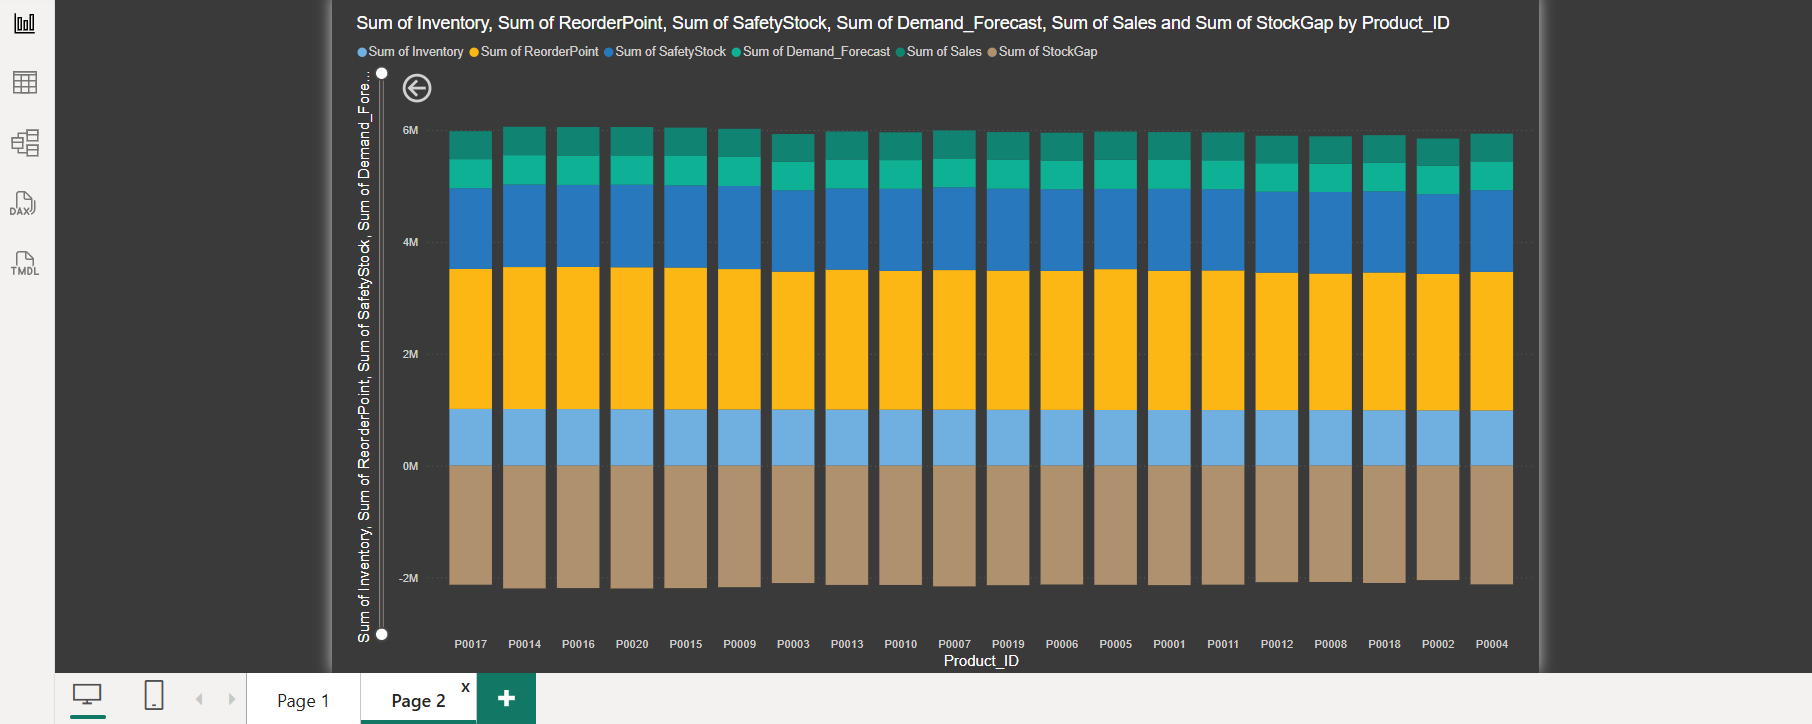

This screenshot's page, from the dashboard's own definition file:
{"tool":"powerbi","page":{"name":"Page 2","canvas":[1280,720],"ordinal":1},"visuals":[{"type":"columnChart","fields":{"Category":["retail_store_inventory.Product_ID"],"Y":["Sum(retail_store_inventory.Inventory)","Sum(retail_store_inventory.ReorderPoint)","Sum(retail_store_inventory.SafetyStock)","Sum(retail_store_inventory.Demand_Forecast)","Sum(retail_store_inventory.Sales)","Sum(retail_store_inventory.StockGap)"]},"box":[20,20,1260,700],"z":0},{"type":"actionButton","box":[69.6,79.3,100.4,40.5],"z":1}]}

Visuals, with their boxes on the page's 1280x720 design canvas (x1, y1, x2, y2). These are canvas units, not pixel positions in the 1812x724 screenshot, which may show the page scaled, cropped or inside an application window:
columnChart - retail_store_inventory.Product_ID x Sum(retail_store_inventory.Inventory): box=[20, 20, 1280, 720]
actionButton: box=[70, 79, 170, 120]
